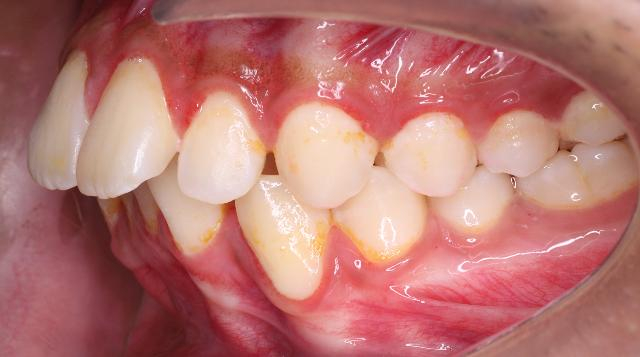canine class I: (235, 103, 430, 316)
